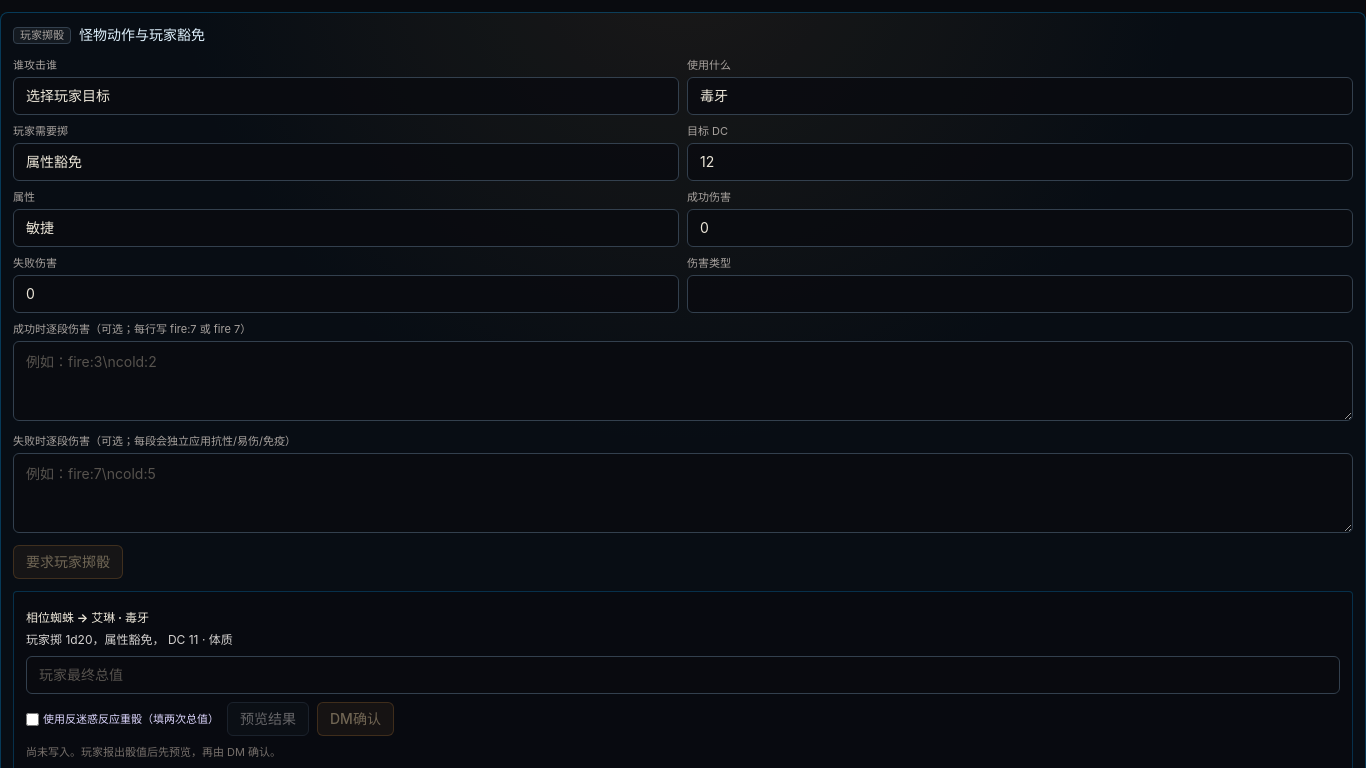
Test: PlayerRollPanel › requires the DM to select one countercharm reactor when multiple are eligible
Click the checkbox labelled "使用反迷惑反应重骰（填两次总值）": (32, 719) [26,712,39,726]
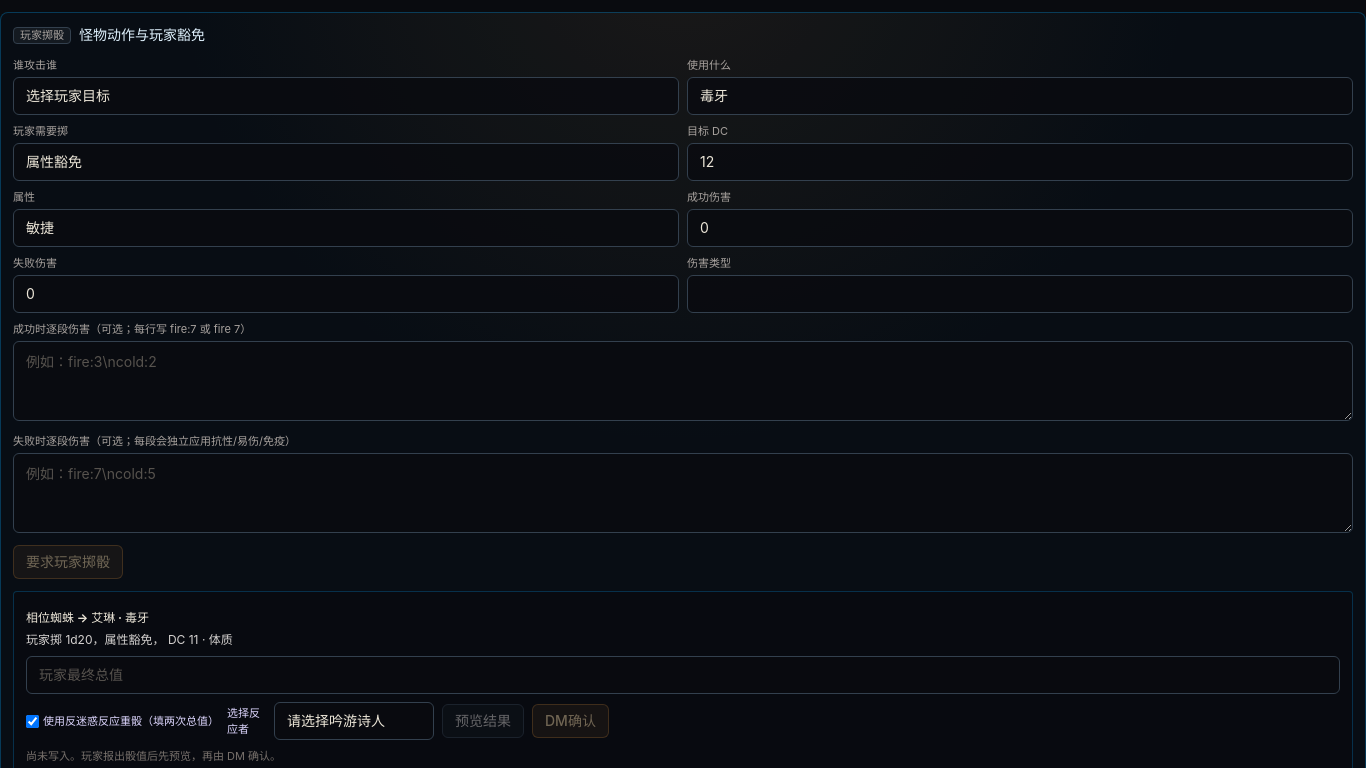
Now the dropdown named "艾琳反迷惑反应者" shows "请选择吟游诗人", box [274,702,434,740]
In the number field named "艾琳玩家骰结果": (683, 675) [26,656,1340,694], type "5"
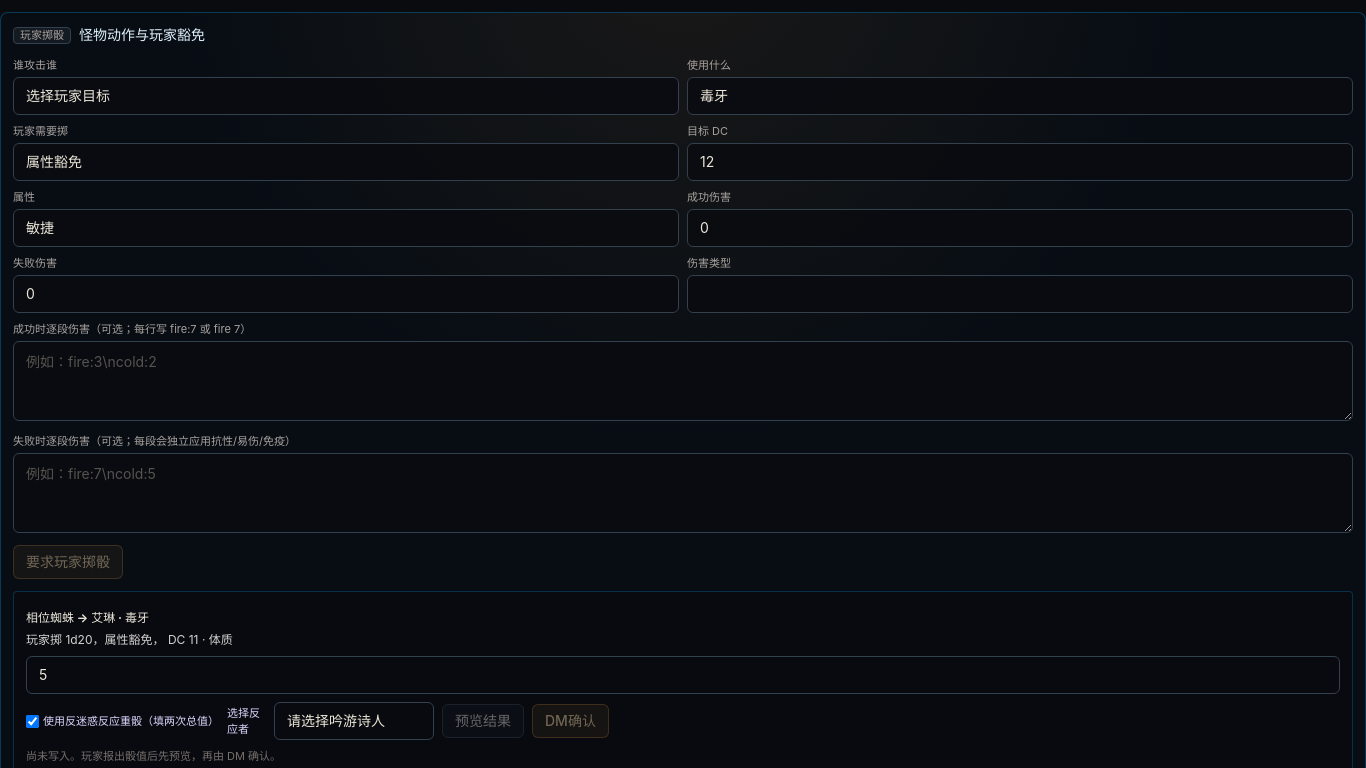
Expected: the button "预览结果" is disabled, [442,704,524,738]
Select "吟游诗人甲" in the dropdown named "艾琳反迷惑反应者": (354, 721) [274,702,434,740]
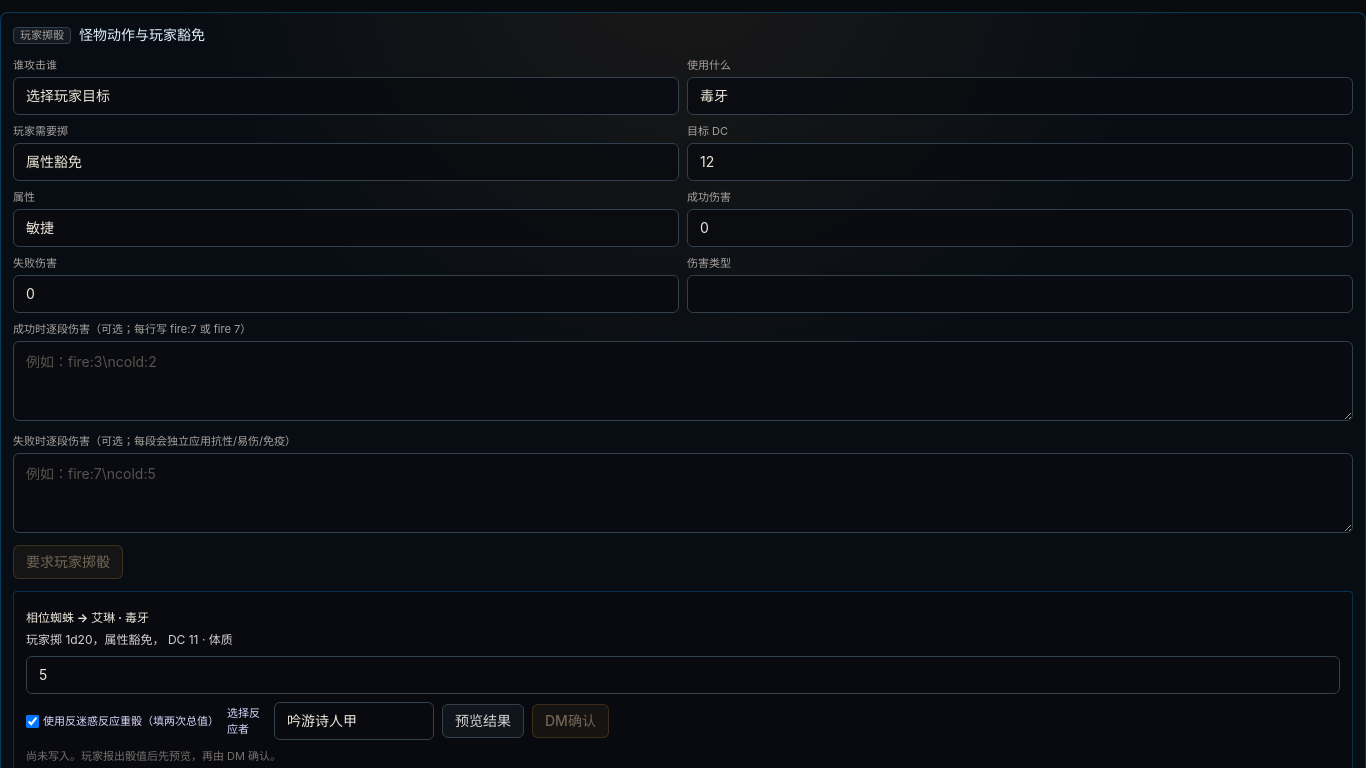
Now the button "预览结果" is enabled, box [442,704,524,738]
